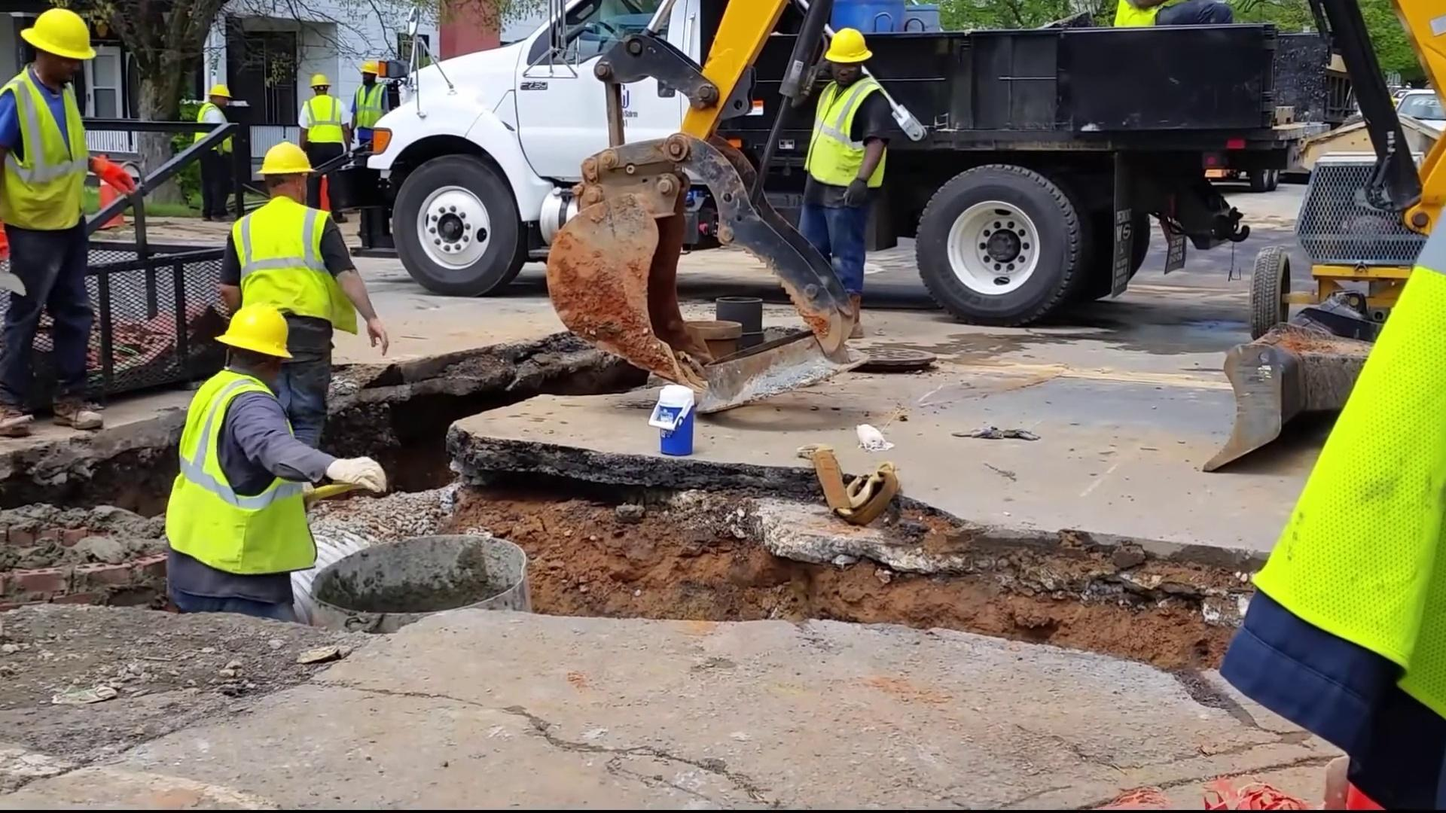apron: (326, 448, 388, 498), (88, 155, 147, 198), (92, 157, 139, 202)
